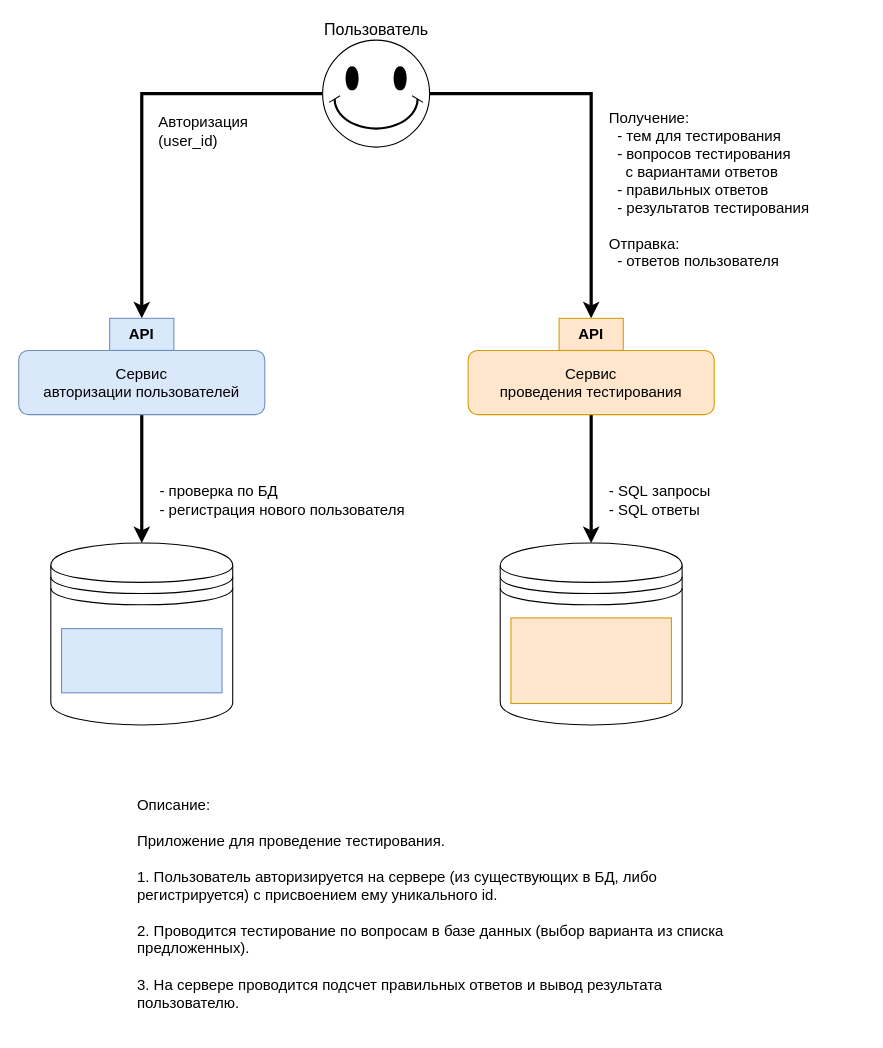
This 883x1048 diagram has some shape labels left out. The box of each missing label's shape, as (x1, y1, x2, y2) in pixels:
Таблица 1 БД Пользователей: (60, 628, 222, 693)
Таблица 1 Вопросы Таблица 2 Варианты ответов: (510, 617, 671, 704)
